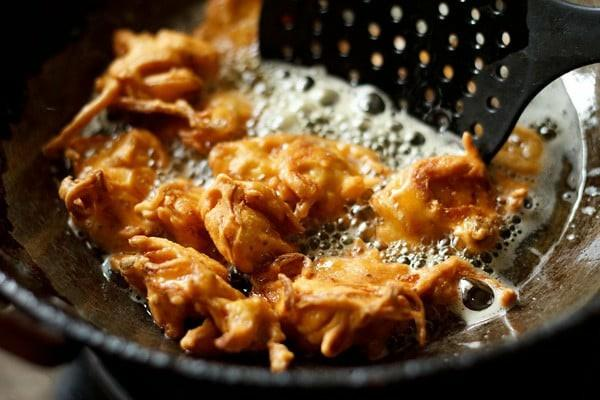OnionPakoda: (44, 1, 540, 370)
